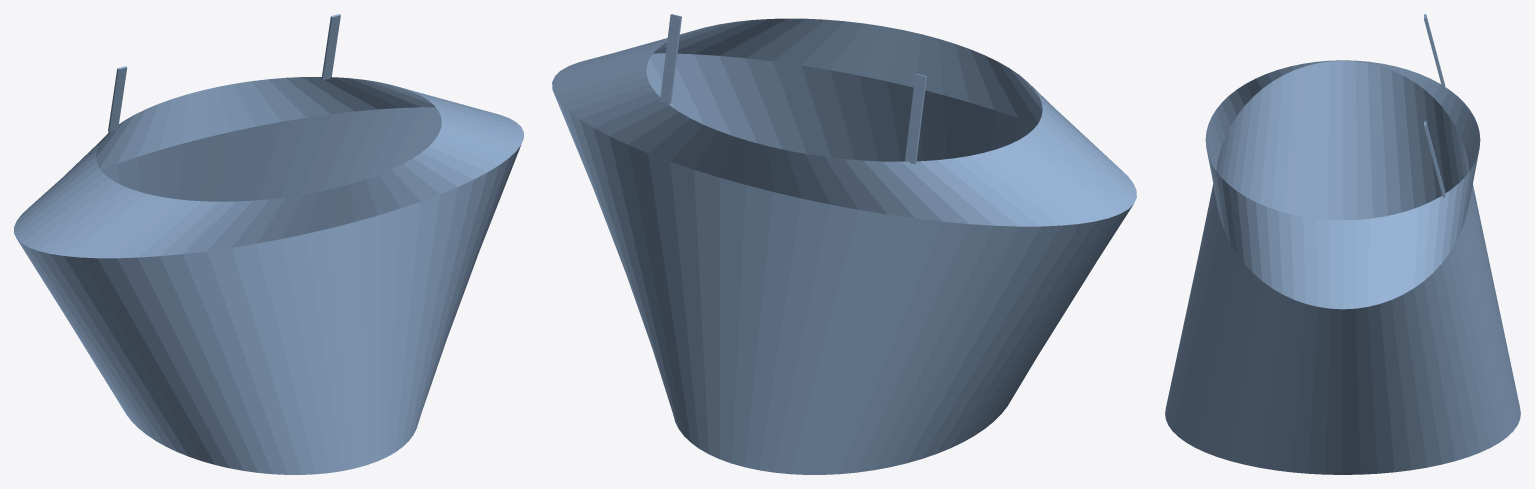
Rendered from sav4-tank-blue.glb.
The picture shows the model from 3 angles, left to right: view 1: azimuth 30°, elevation 25°; view 2: azimuth 150°, elevation 25°; view 3: azimuth 270°, elevation 25°; orthographic projection. The views are drawn at different scales.
Parts seen in each view (by area): view 1: Tank torso, Measured shoulder strap, Measured shoulder strap.001; view 2: Tank torso, Measured shoulder strap.001, Measured shoulder strap; view 3: Tank torso.
Part boxes in pixels (x1,y1,x2,y2): Tank torso: (14,77,523,474); Measured shoulder strap: (108,66,127,132); Measured shoulder strap.001: (321,14,340,80); Tank torso: (552,18,1136,474); Measured shoulder strap.001: (660,14,681,104); Measured shoulder strap: (905,73,926,164); Tank torso: (1165,60,1520,474).
Size of the model in its own units: 0.7233 by 0.4665 by 0.4377.
